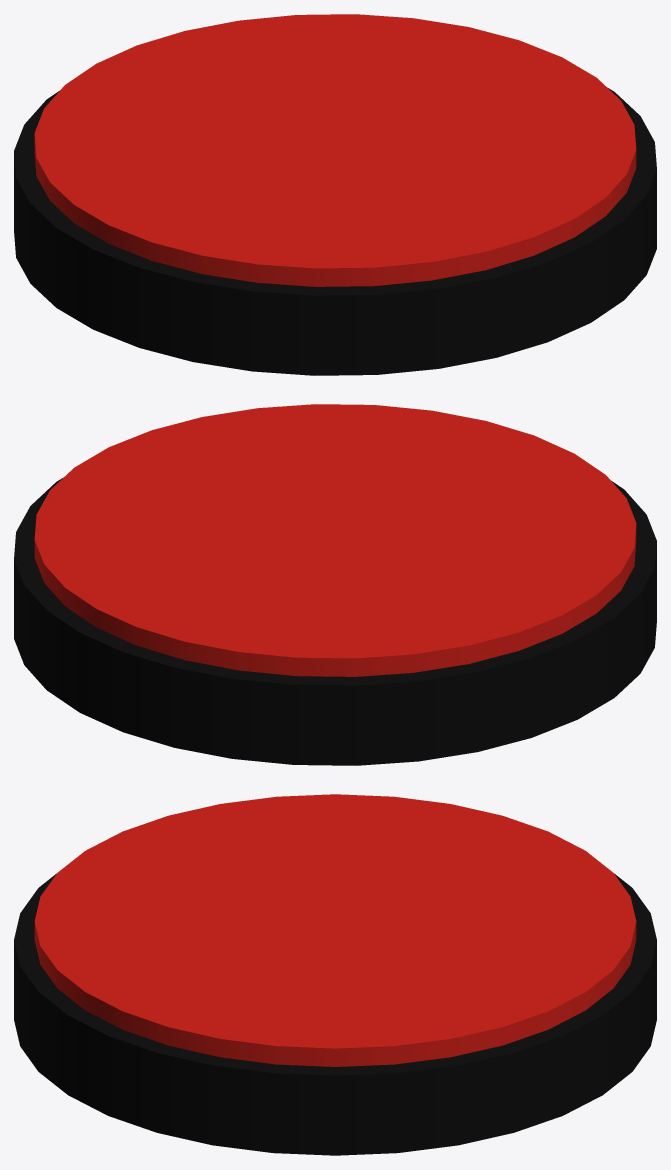
Rendered from Target2.glb.
3 views of the same model, one above another, from view 1: azimuth 30°, elevation 25°; view 2: azimuth 150°, elevation 25°; view 3: azimuth 270°, elevation 25° (orthographic).
Parts seen in each view (by area): view 1: Target2; view 2: Target2; view 3: Target2.
Boxes of the visible parts, x1=… form: Target2: x1=14, y1=14, x2=656, y2=375; Target2: x1=14, y1=404, x2=656, y2=765; Target2: x1=14, y1=794, x2=656, y2=1155.
Size of the model in its own units: 2 by 0.3378 by 2.
